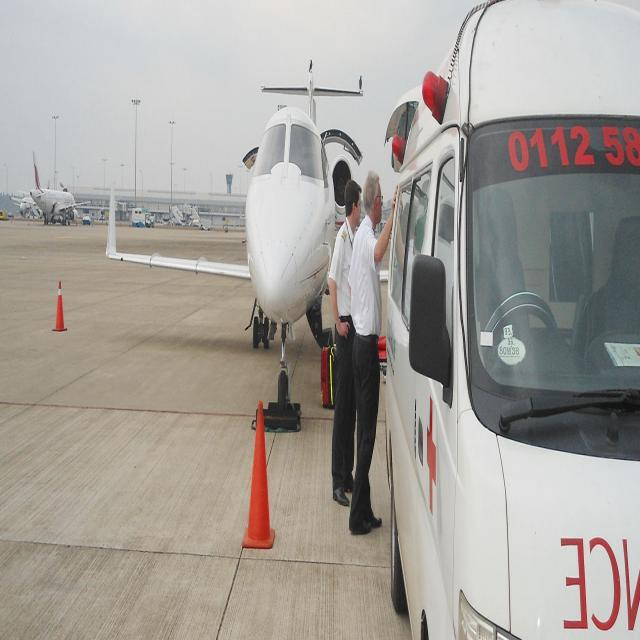emergency-vehicle: (388, 6, 636, 630)
